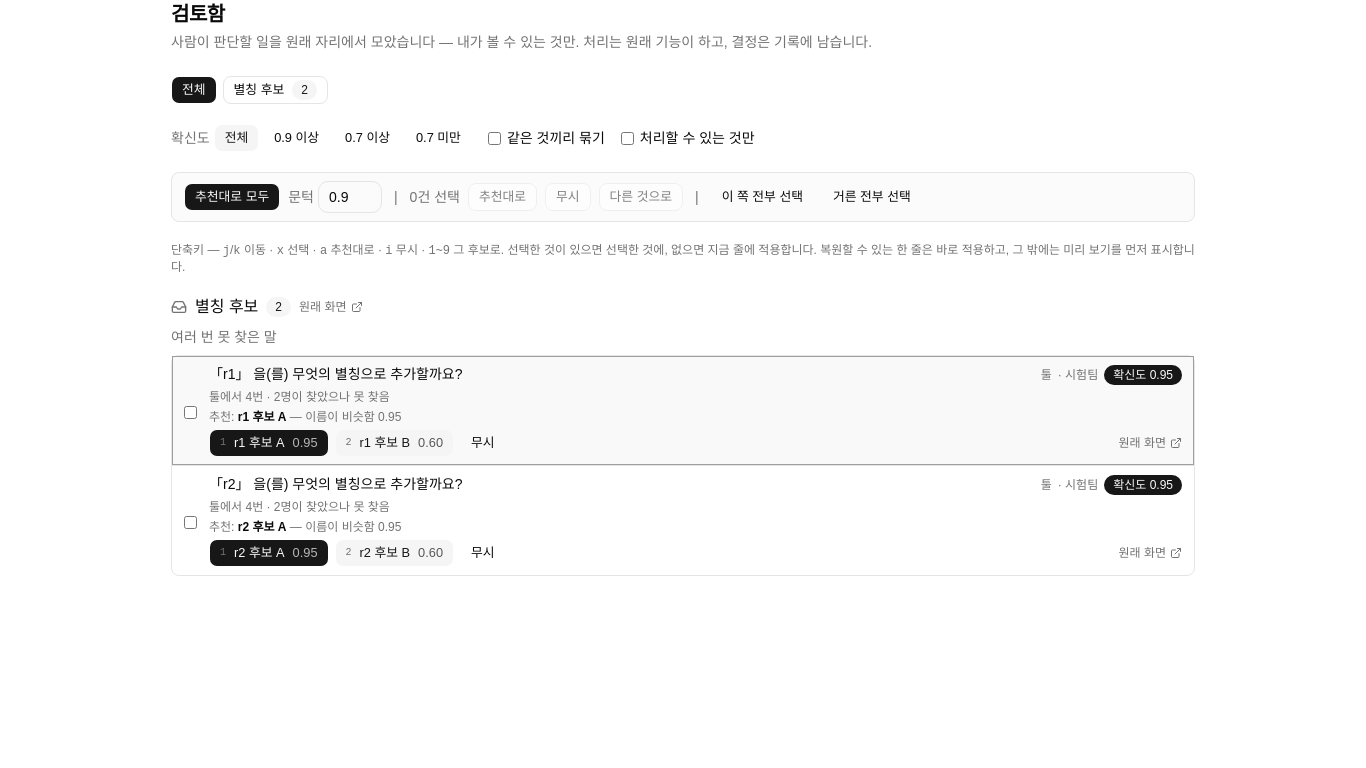
Test: 검토함 › 고른 것을 한 번에 무시 — 미리 보기를 거친다
The image size is (1366, 768).
Check: the text "「r1」 을(를) 무엇의 별칭으로 추가할까요?" is shown, box [209,364,462,384]
Click the button "이 쪽 전부 선택".
click(762, 197)  # box [711,183,814,211]
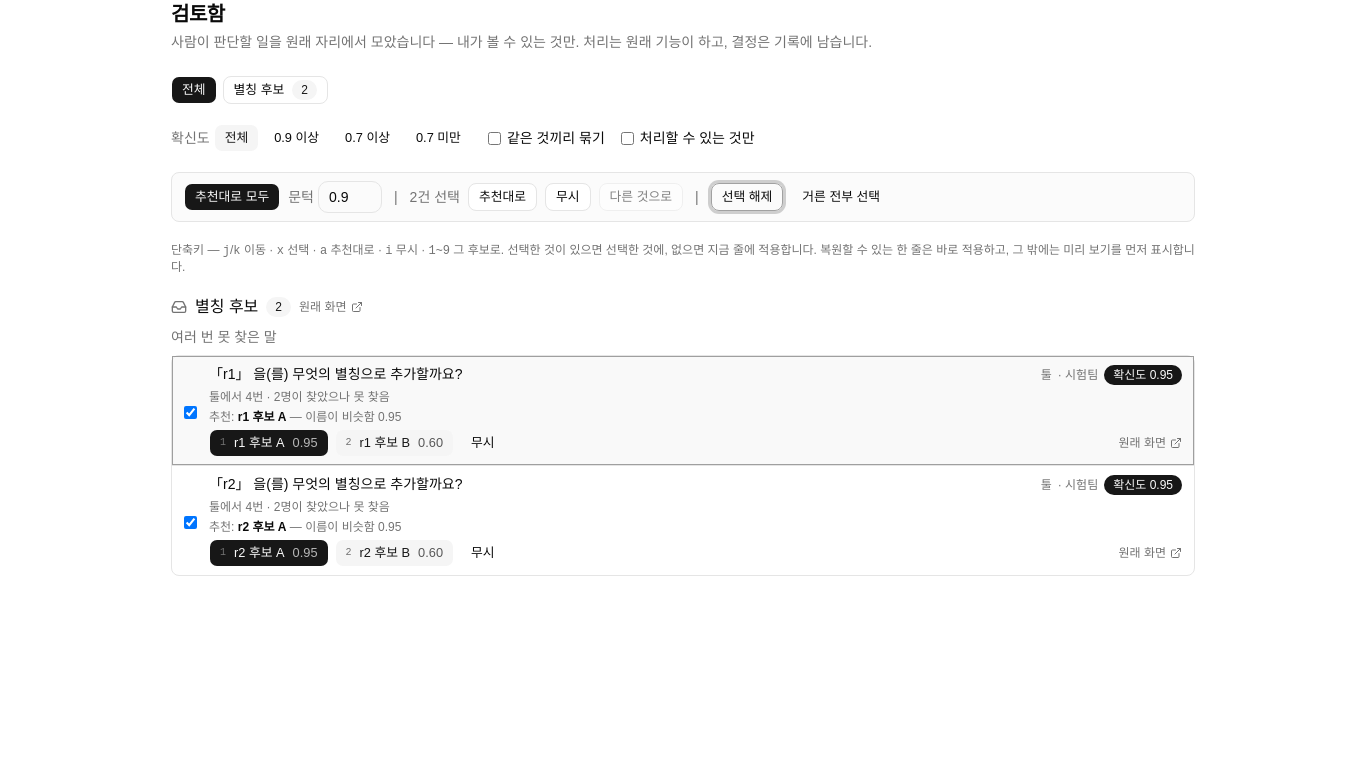
Click the button "무시" in the row of "2건 선택".
click(568, 197)  # box [545,183,590,211]
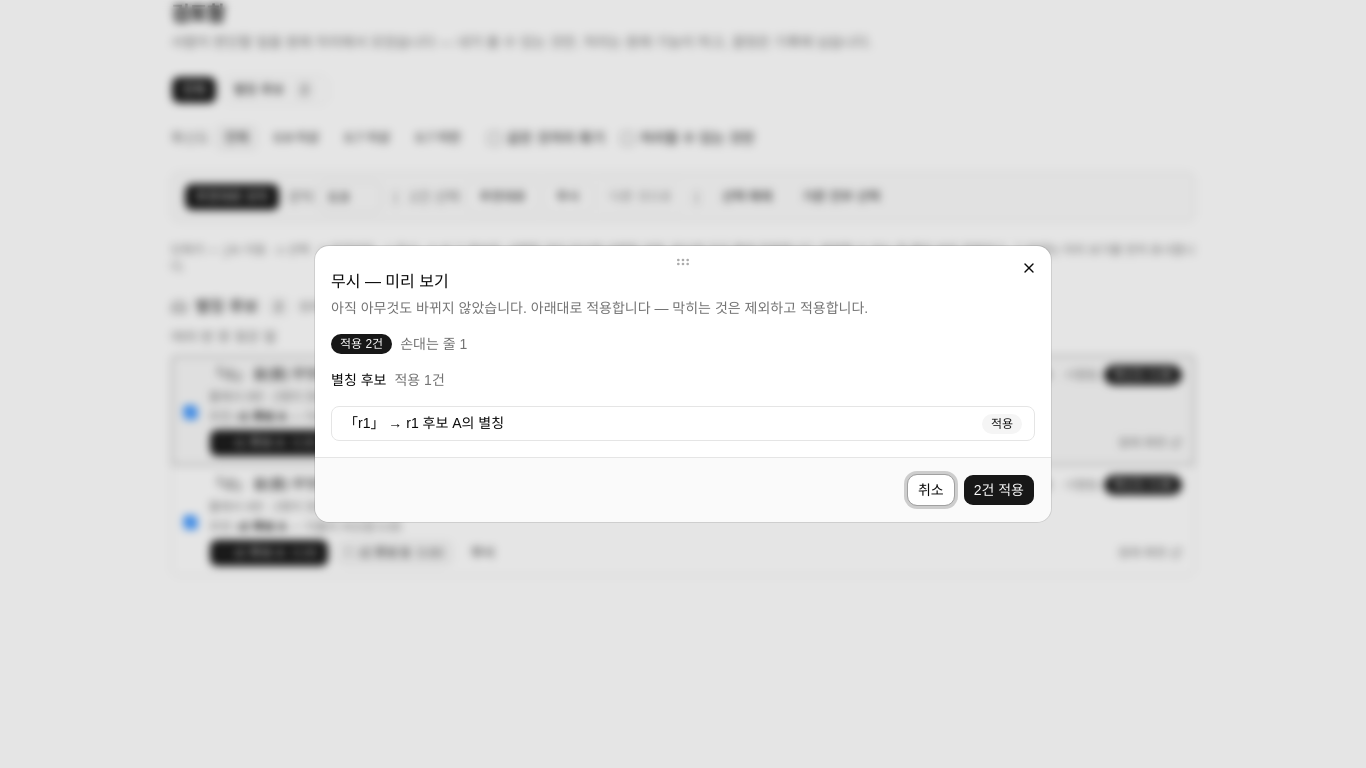
Check: the dialog is shown, box [315,246,1051,522]
